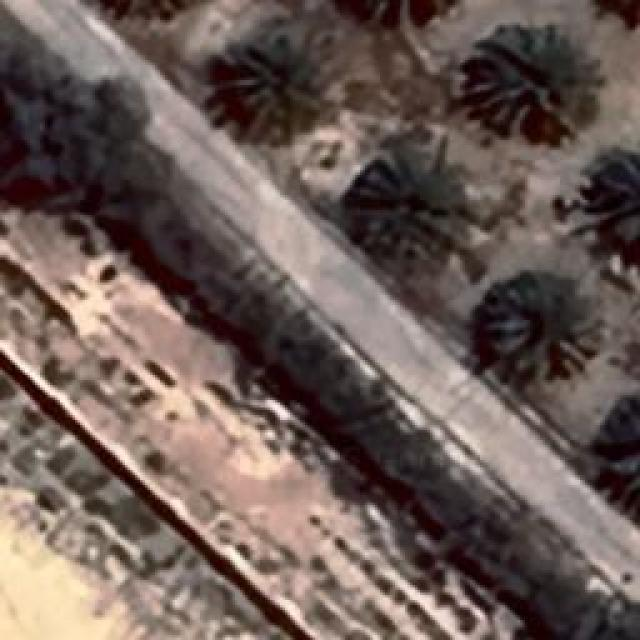PalmTree: (48, 84, 616, 456), (126, 10, 403, 84), (464, 20, 598, 138), (354, 140, 468, 272), (218, 27, 340, 145), (483, 272, 598, 380), (573, 146, 640, 282), (524, 606, 636, 640), (84, 0, 205, 18), (590, 0, 640, 29), (86, 0, 203, 12)
